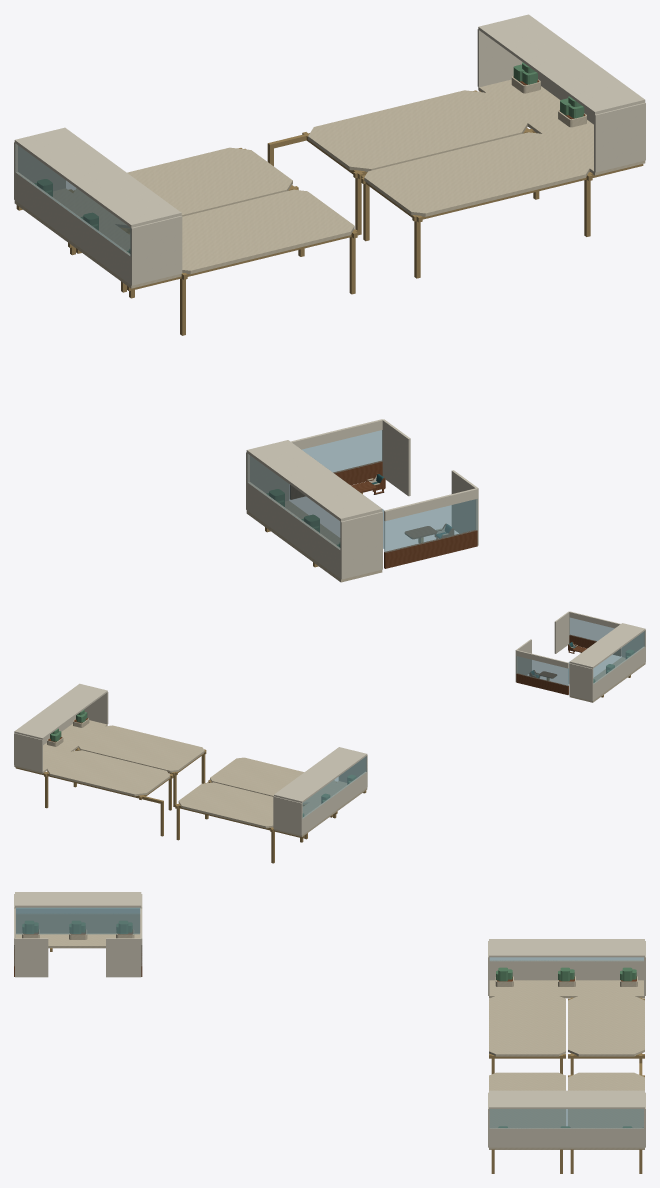
File: D04_PORT_FORWARD_HOMES_RECEIVING_r001.glb
The picture shows the model from 3 angles, top to bottom: view 1: azimuth 30°, elevation 25°; view 2: azimuth 150°, elevation 25°; view 3: azimuth 270°, elevation 25°; orthographic projection. The views are drawn at different scales.
Parts seen in each view (by area): view 1: D04H892_Floor, D04H916_Floor, D04H880_Floor, D04H904_Floor, D04HC_west_Roof, D04HC_east_Roof, D04HC_commons_Roof, D04HC_east_Floor, D04HC_west_PrivacyScreen, D04HC_west_GlassUpper, D04HC_west_End_1, D04HC_east_End_1 (+16 smaller); view 2: D04H916_Floor, D04H892_Floor, D04H904_Floor, D04H880_Floor, D04HC_west_Roof, D04HC_east_Roof, D04HC_commons_Roof, D04HC_east_Floor, D04HC_west_PrivacyScreen, D04HC_west_GlassUpper, D04HC_west_End_0, D04Commons_NorthGlass (+10 smaller); view 3: D04H880_Floor, D04H904_Floor, D04Commons_GardenGlass, D04HC_east_PrivacyScreen, D04HC_east_GlassUpper, D04HC_west_Roof, D04HC_east_Roof, D04H892_Floor, D04H916_Floor, D04HC_west_PrivacyScreen, D04HC_west_Floor, D04HC_commons_Roof (+7 smaller).
Boxes of the visible parts, x1,y1,x2,y2 form: D04H892_Floor: [364, 132, 589, 216]; D04H916_Floor: [308, 90, 527, 171]; D04H880_Floor: [182, 189, 354, 274]; D04H904_Floor: [73, 147, 292, 228]; D04HC_west_Roof: [14, 127, 181, 227]; D04HC_east_Roof: [478, 14, 645, 114]; D04HC_commons_Roof: [246, 440, 382, 521]; D04HC_east_Floor: [478, 79, 645, 175]; D04HC_west_PrivacyScreen: [14, 172, 131, 284]; D04HC_west_GlassUpper: [15, 143, 130, 256]; D04HC_west_End_1: [130, 216, 182, 285]; D04HC_east_End_1: [594, 102, 645, 172]; D04H916_Floor: [47, 750, 169, 796]; D04H892_Floor: [78, 725, 204, 772]; D04H904_Floor: [178, 782, 273, 828]; D04H880_Floor: [210, 757, 335, 804]; D04HC_west_Roof: [274, 747, 367, 802]; D04HC_east_Roof: [14, 683, 107, 739]; D04HC_commons_Roof: [569, 623, 645, 668]; D04HC_east_Floor: [14, 720, 107, 773]; D04HC_west_PrivacyScreen: [302, 772, 367, 834]; D04HC_west_GlassUpper: [302, 756, 366, 818]; D04HC_west_End_0: [273, 796, 302, 835]; D04Commons_NorthGlass: [516, 656, 568, 685]; D04H880_Floor: [489, 996, 565, 1056]; D04H904_Floor: [568, 996, 644, 1056]; D04Commons_GardenGlass: [16, 907, 139, 934]; D04HC_east_PrivacyScreen: [489, 1128, 644, 1147]; D04HC_east_GlassUpper: [489, 1109, 643, 1128]; D04HC_west_Roof: [489, 939, 644, 957]; D04HC_east_Roof: [489, 1090, 644, 1108]; D04H892_Floor: [489, 1072, 565, 1127]; D04H916_Floor: [568, 1072, 644, 1127]; D04HC_west_PrivacyScreen: [489, 960, 643, 980]; D04HC_west_Floor: [489, 980, 644, 998]; D04HC_commons_Roof: [15, 892, 141, 907].
Size of the model in its own units: 47.6 by 8.66 by 59.08.
Materials: 18 (16 with a texture image).
